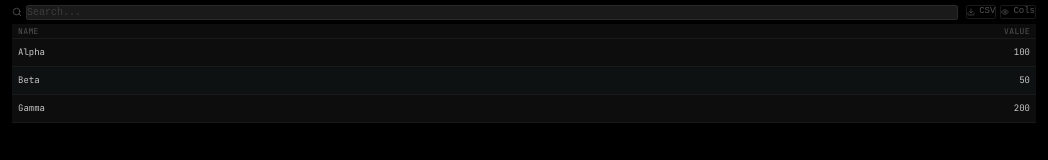
DataTable › filters rows by search query
Type "Beta" into the field with placeholder "Search..." at {"x": 492, "y": 12}, box [26,4,958,20]
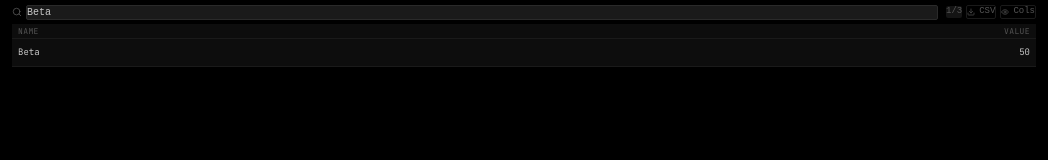
Expected: the text "Beta" is shown, [18,46,40,58]
Expected: the text "Alpha" is gone
